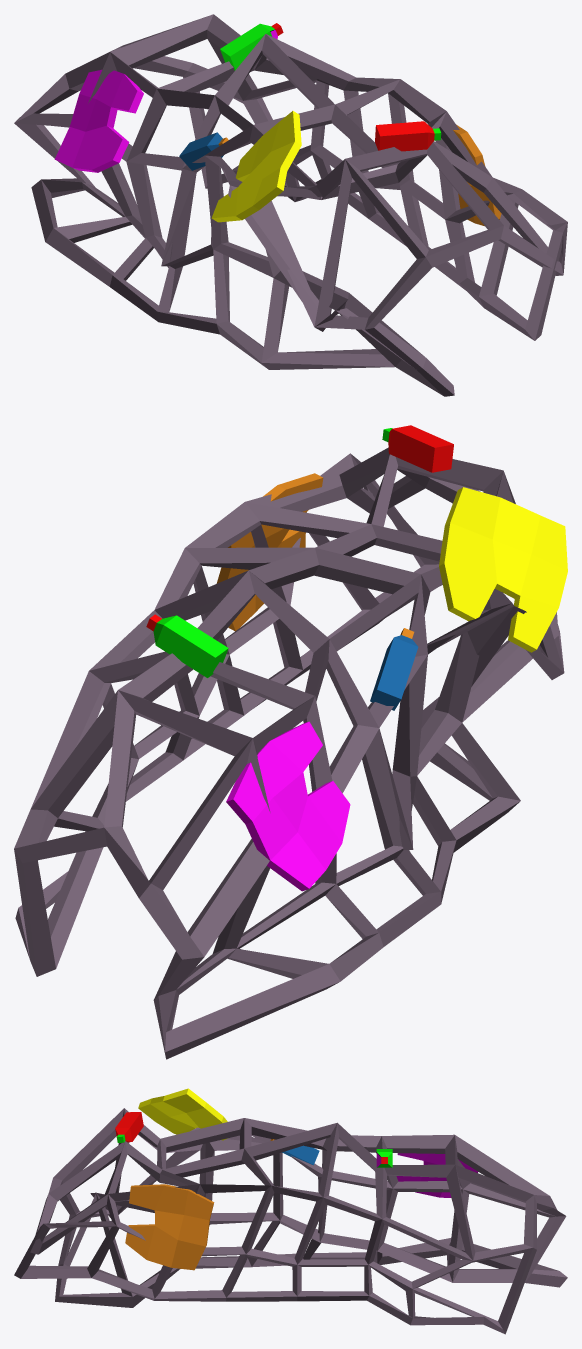
Rendered from sharknet.fbx.
3 renders of one model, top to bottom at view 1: azimuth 30°, elevation 25°; view 2: azimuth 150°, elevation 25°; view 3: azimuth 270°, elevation 25°, orthographic. The views are drawn at different scales.
Parts seen in each view (by area): view 1: Net; view 2: Net; view 3: Net.
Part boxes in pixels (bbox=[...]): Net: bbox=[14, 14, 567, 396]; Net: bbox=[14, 425, 567, 1059]; Net: bbox=[14, 1088, 567, 1334].
Bounding box in the file's own units: 6627 × 6430 × 15879.
